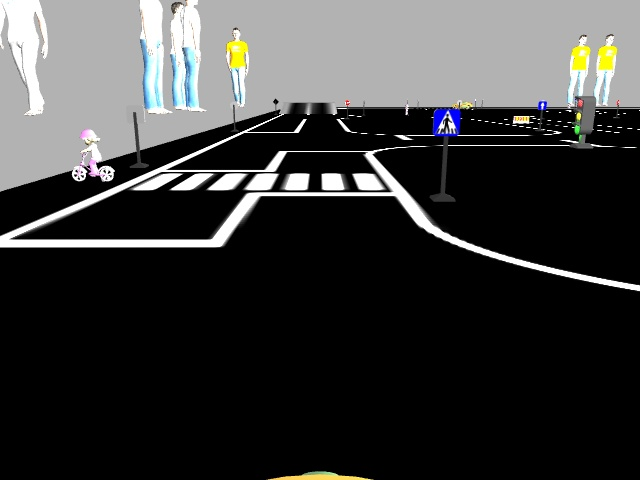Crosswalk: (431, 105, 461, 135)
Pedestrian: (61, 125, 118, 187)
TrafficLight: (572, 92, 596, 135)
